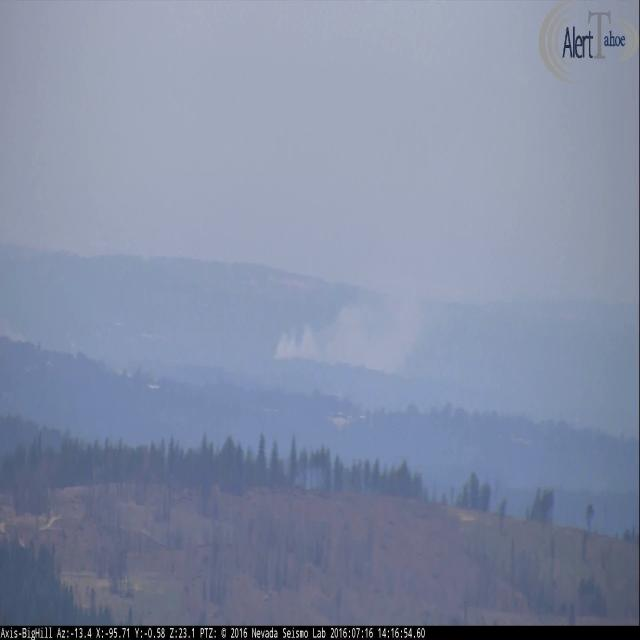smoke: (274, 251, 421, 371)
